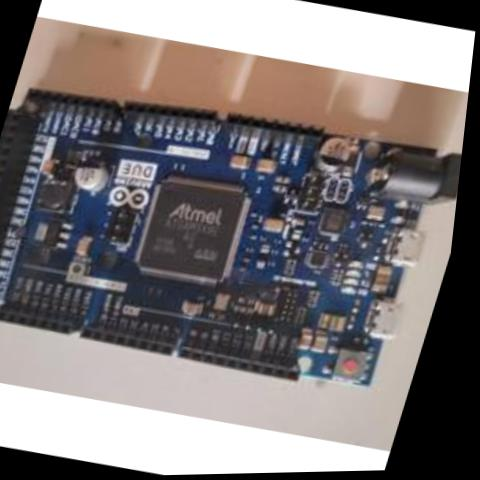Arduino-Due: (0, 48, 475, 421)
